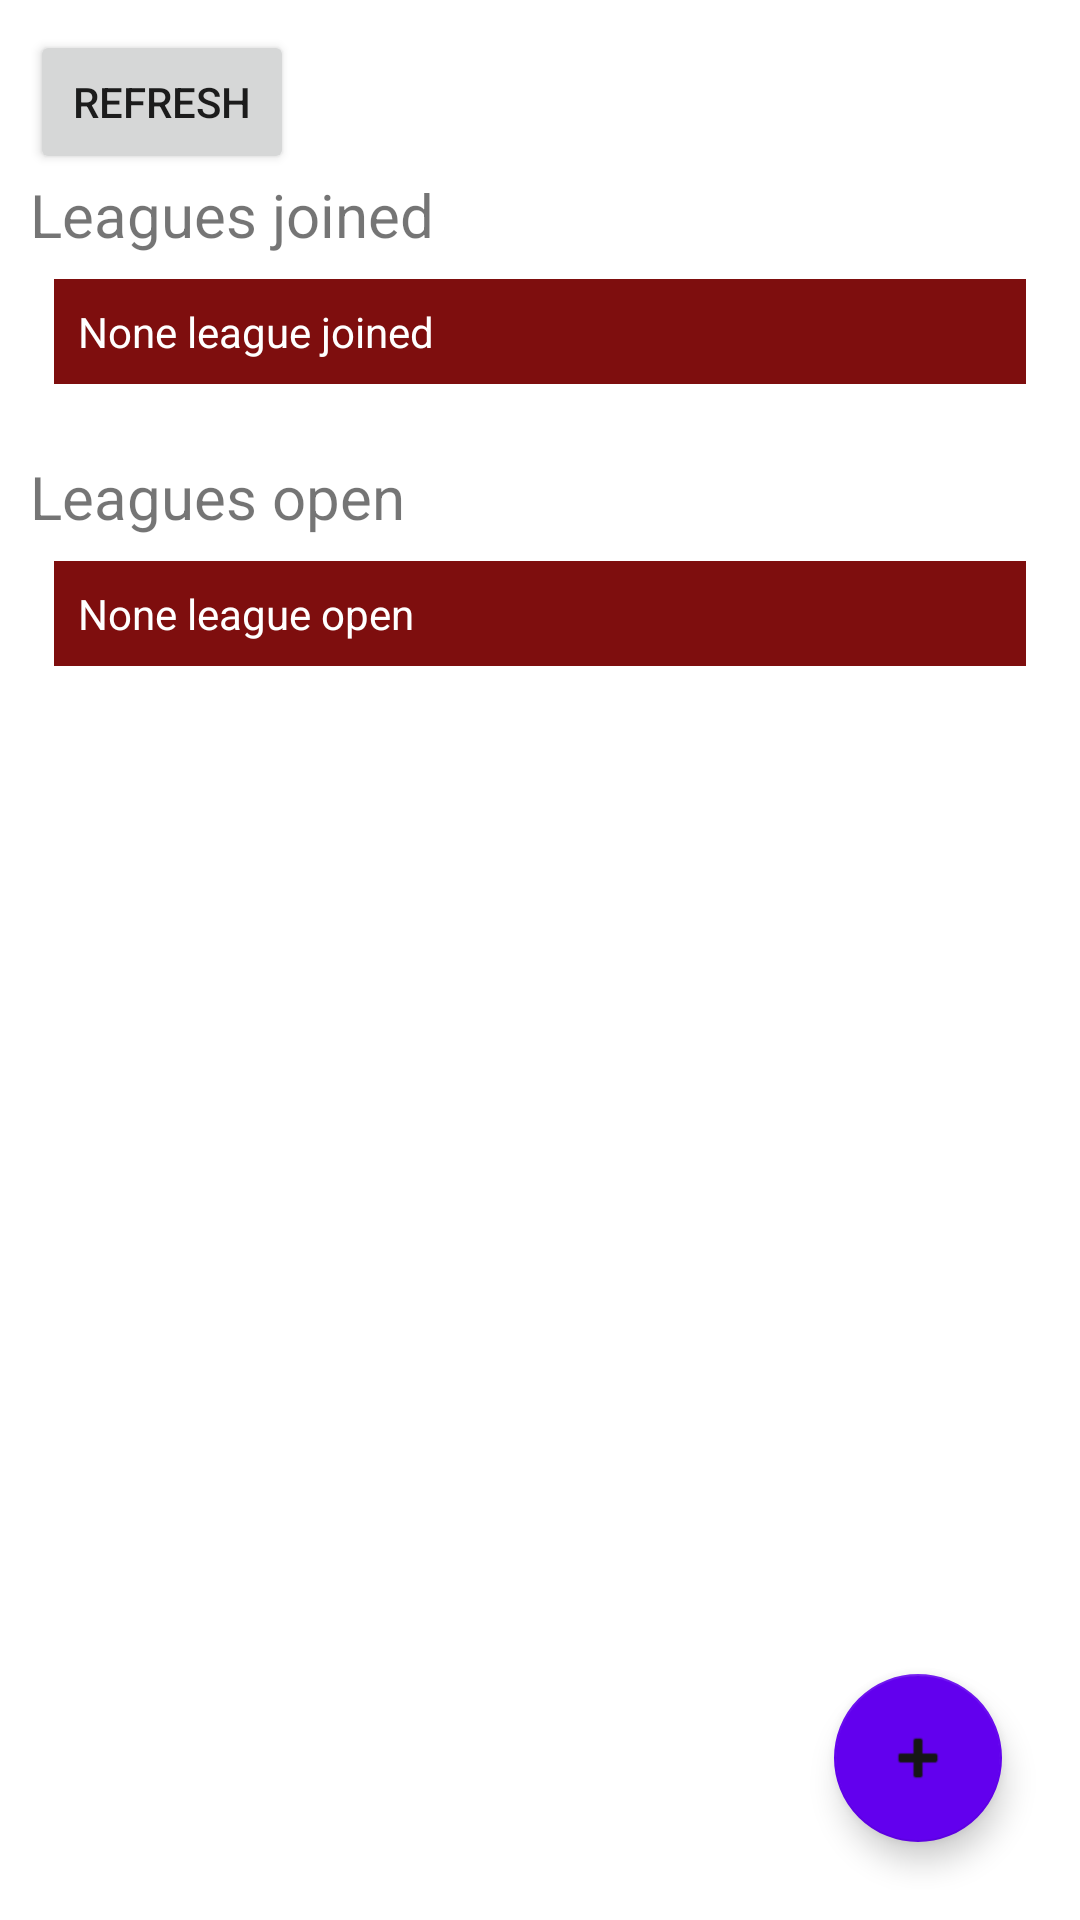

Screen size 1080 × 1920. Icon name, then its center in pixels as (x=x, y=y):
Create league button: (x=918, y=1758)
